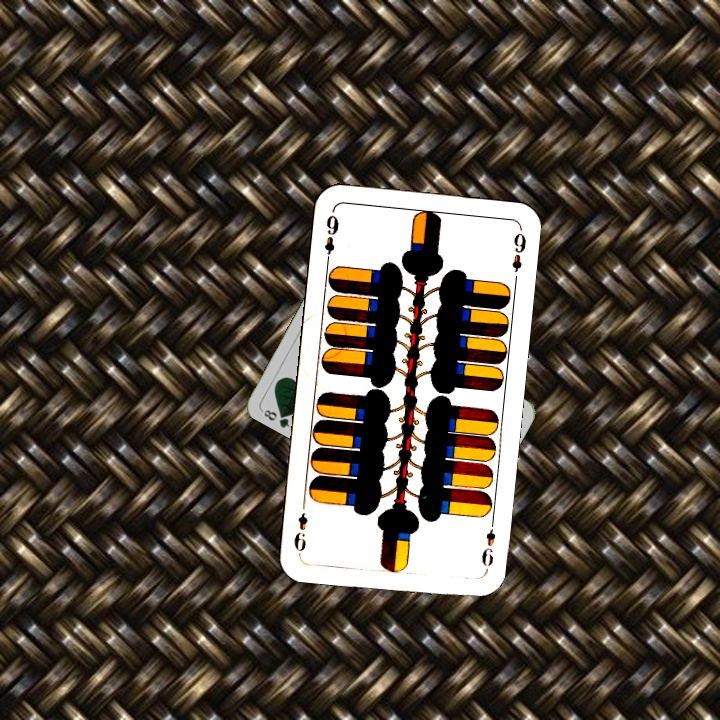E9: (477, 515, 498, 574), (320, 211, 342, 267)
G8: (258, 405, 296, 431)
